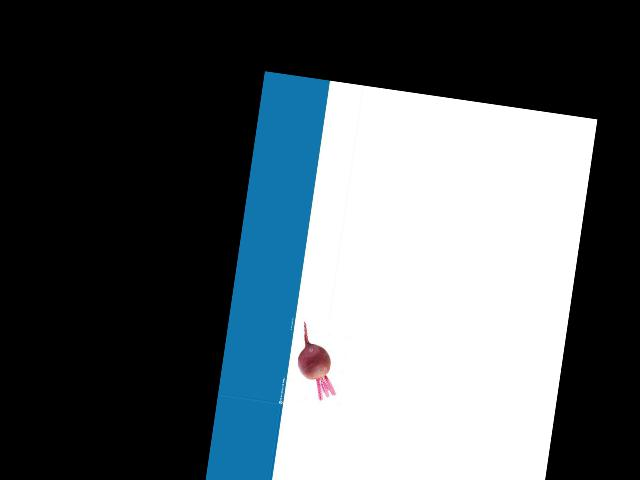beet: (293, 322, 344, 401)
